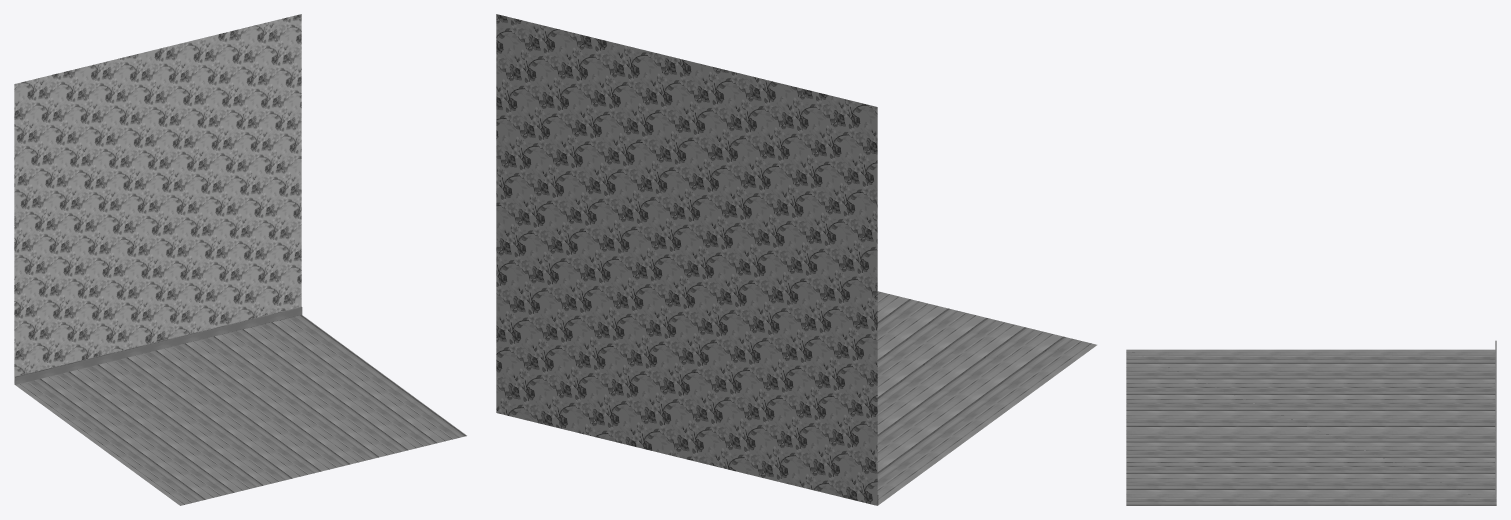
Rendered from mdl_wall_and_floor.fbx.
The picture shows the model from 3 angles, left to right: view 1: azimuth 30°, elevation 25°; view 2: azimuth 150°, elevation 25°; view 3: azimuth 270°, elevation 25°; orthographic projection. The views are drawn at different scales.
Visible parts, largest first — view 1: pPlane2; view 2: pPlane2; view 3: pPlane2.
Part boxes in pixels (x1,y1,x2,y2): pPlane2: [14, 14, 466, 505]; pPlane2: [496, 14, 1096, 505]; pPlane2: [1126, 340, 1496, 505].
Size of the model in its own units: 300 by 300 by 300.
2 materials, 2 textured.
